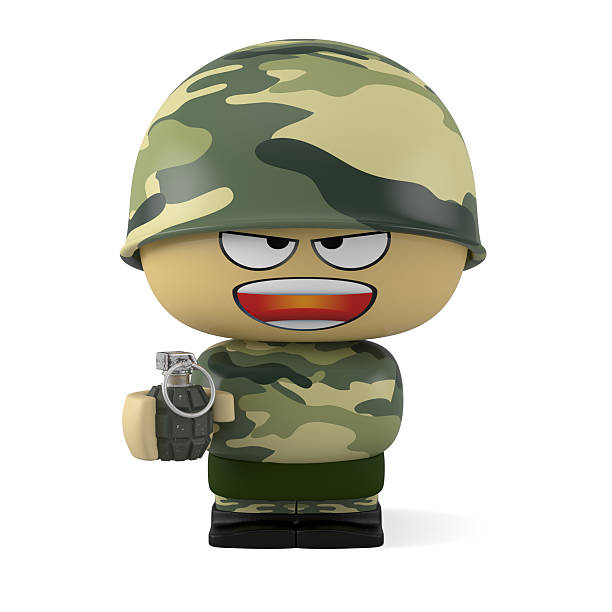e1: (153, 350, 212, 460)
